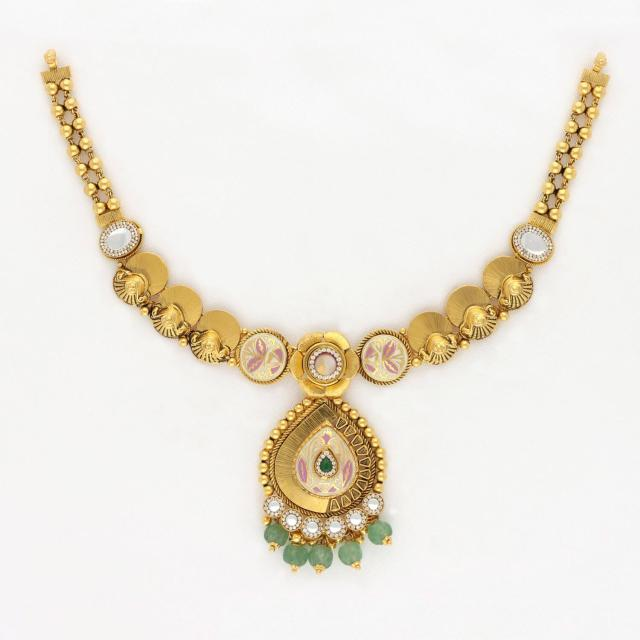missing gem: (315, 353, 337, 376)
